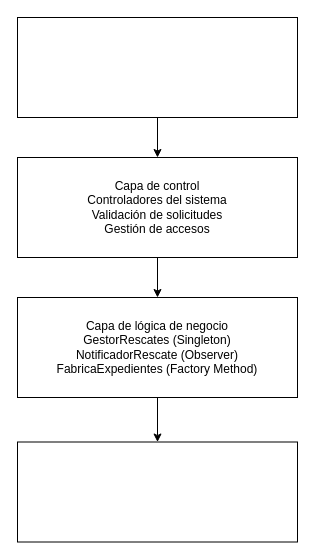
This 315x560 diagram has some shape labels left out. Here are the shapes that lost their labels. From the top down, the centre of each, then its label:
At point (157, 67): "Capa de presentación Interfaz web Formularios de rescate Consulta de casos".
At point (157, 491): "Capa de datos Animales Expedientes de rescate Usuarios y adopciones".
